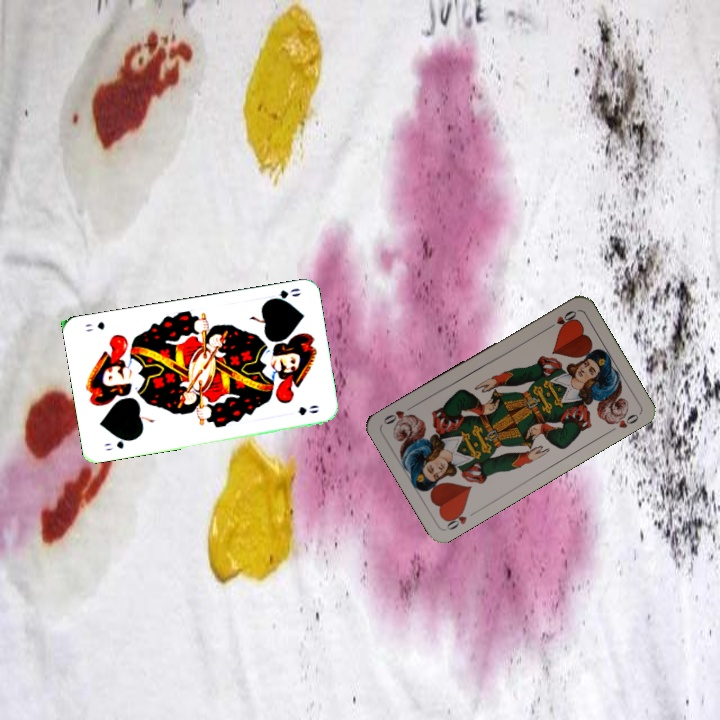GO: (263, 284, 303, 305), (100, 434, 136, 453)
HO: (441, 505, 479, 533), (542, 306, 579, 332)
